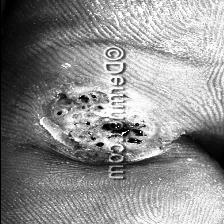Toxin: (42, 83, 109, 165), (123, 100, 163, 167)
